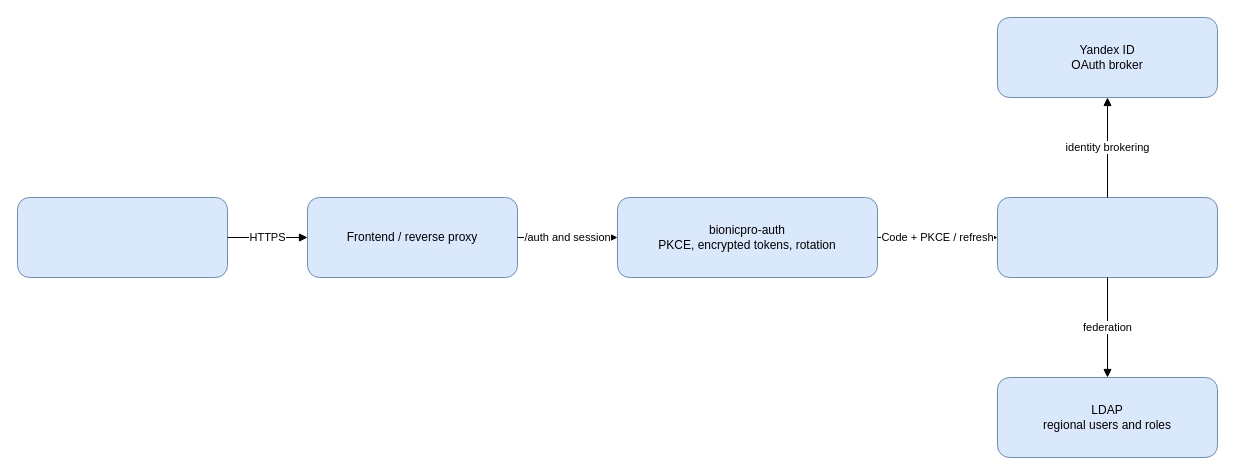
This 1235x475 diagram has some shape labels left out. The shapes that lost their labels are listed below. From the top down, each one's centre as x and y in pixels, then its label:
the point at 122,237: User browser Only HttpOnly session cookie
the point at 1107,237: Keycloak 2 min access token, OTP
